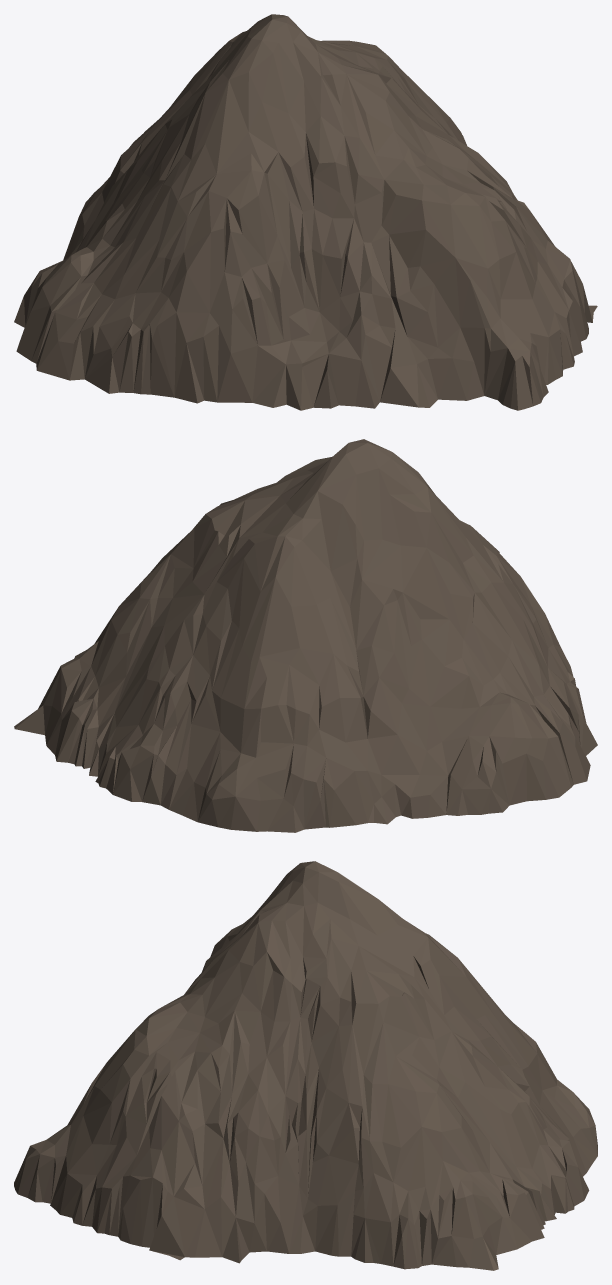
File: 山体1red.fbx
The picture shows the model from 3 angles, top to bottom: view 1: azimuth 30°, elevation 25°; view 2: azimuth 150°, elevation 25°; view 3: azimuth 270°, elevation 25°; orthographic projection. The views are drawn at different scales.
Parts seen in each view (by area): view 1: 山体2-流水侵蚀; view 2: 山体2-流水侵蚀; view 3: 山体2-流水侵蚀.
Part boxes in pixels (x1,y1,x2,y2): 山体2-流水侵蚀: [14, 14, 597, 410]; 山体2-流水侵蚀: [14, 439, 597, 832]; 山体2-流水侵蚀: [14, 861, 597, 1270].
Size of the model in its own units: 896 by 497 by 935.
